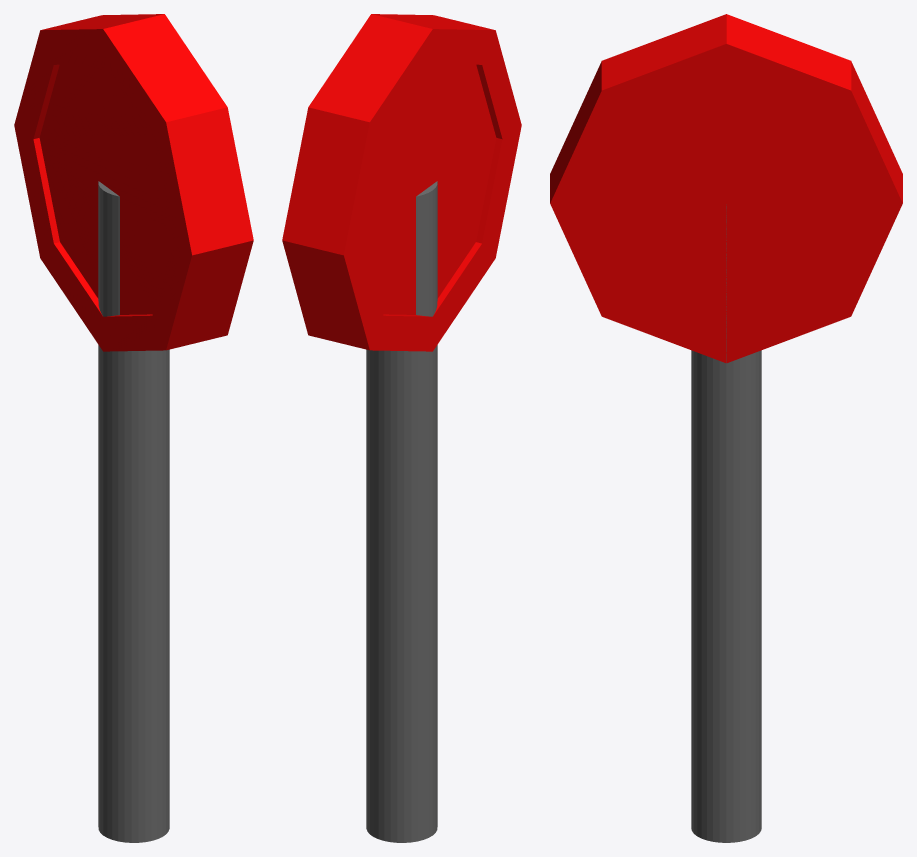
File: StopSign.fbx
3 renders of one model, left to right at view 1: azimuth 30°, elevation 25°; view 2: azimuth 150°, elevation 25°; view 3: azimuth 270°, elevation 25°, orthographic.
Visible parts, largest first — view 1: Cylinder.001, Cylinder; view 2: Cylinder.001, Cylinder; view 3: Cylinder.001, Cylinder.
Boxes of the visible parts, x1=… form: Cylinder.001: x1=14, y1=14, x2=253, y2=351; Cylinder: x1=98, y1=181, x2=169, y2=842; Cylinder.001: x1=282, y1=14, x2=521, y2=351; Cylinder: x1=366, y1=181, x2=437, y2=842; Cylinder.001: x1=550, y1=14, x2=902, y2=363; Cylinder: x1=691, y1=204, x2=761, y2=842.
Bounding box in the file's own units: 10 × 125 × 50.
